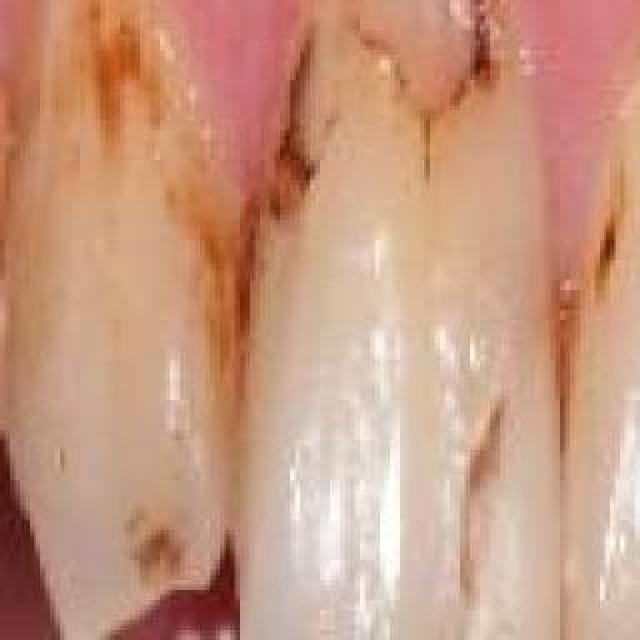stains: (38, 0, 304, 384), (310, 0, 510, 180), (425, 410, 531, 586), (90, 470, 180, 590), (614, 0, 640, 230)
